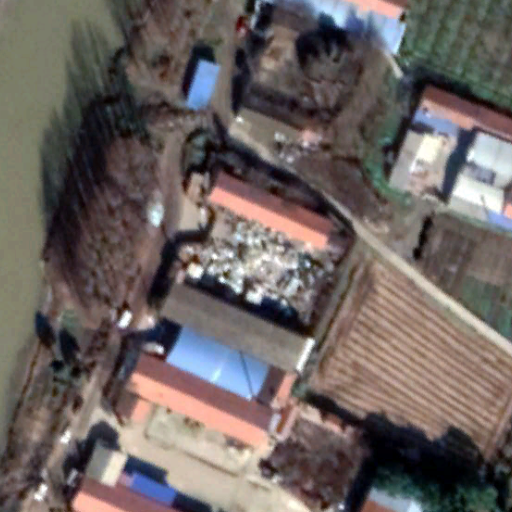msw: (183, 206, 327, 329)
